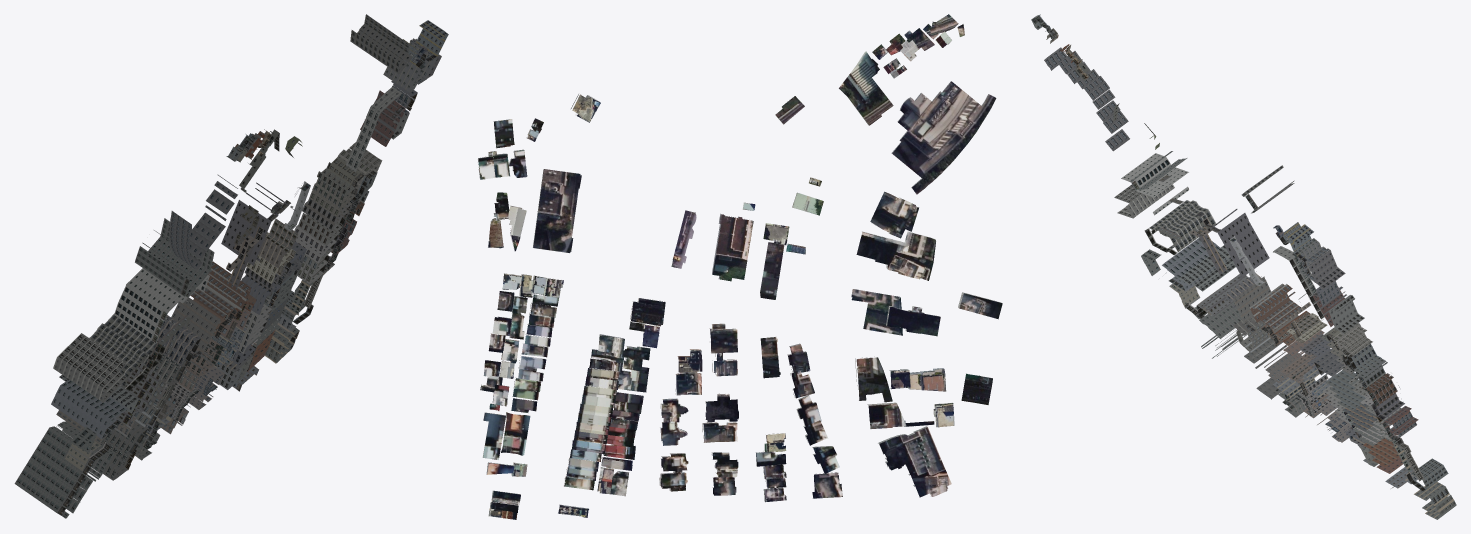
Rendered from tile_LOD8_r3_c5.glb.
3 renders of one model, left to right at view 1: azimuth 30°, elevation 25°; view 2: azimuth 150°, elevation 25°; view 3: azimuth 270°, elevation 25°, orthographic. The views are drawn at different scales.
Size of the model in its own units: 322 by 291 by 286.
Materials: 496 (496 with a texture image).
